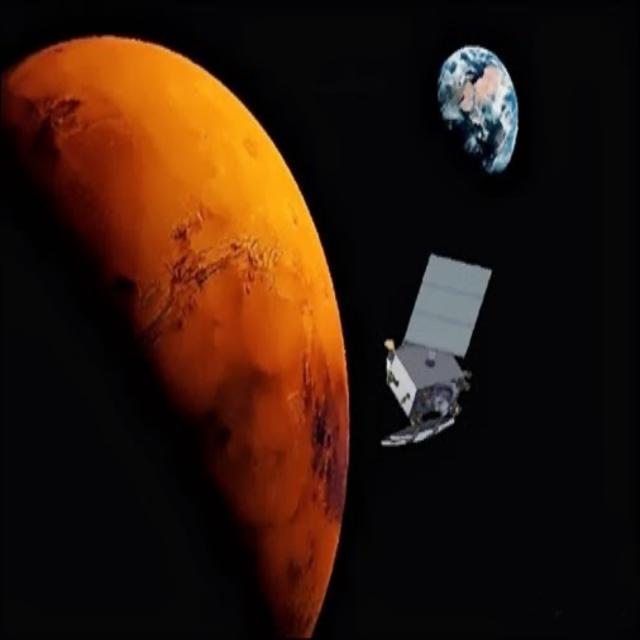medium_debris: (371, 243, 493, 463)
